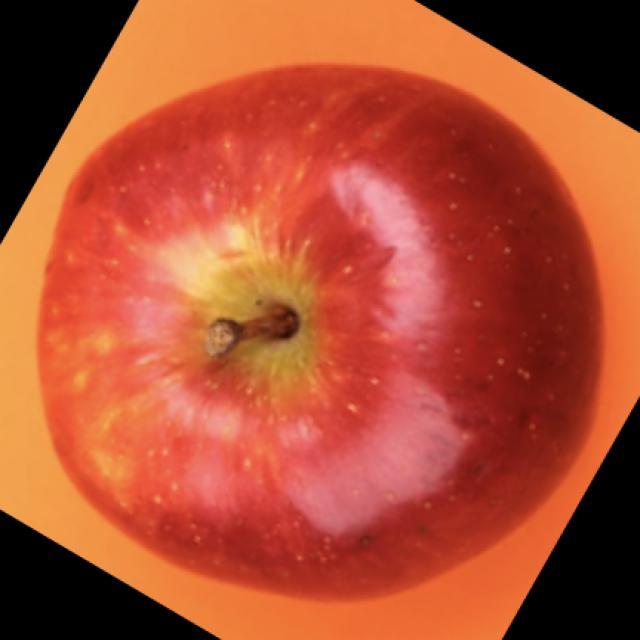Fresh Apple: (55, 68, 590, 595)
